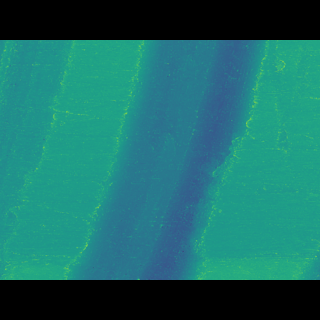Loch: (58, 70, 271, 249), (0, 70, 75, 222)
